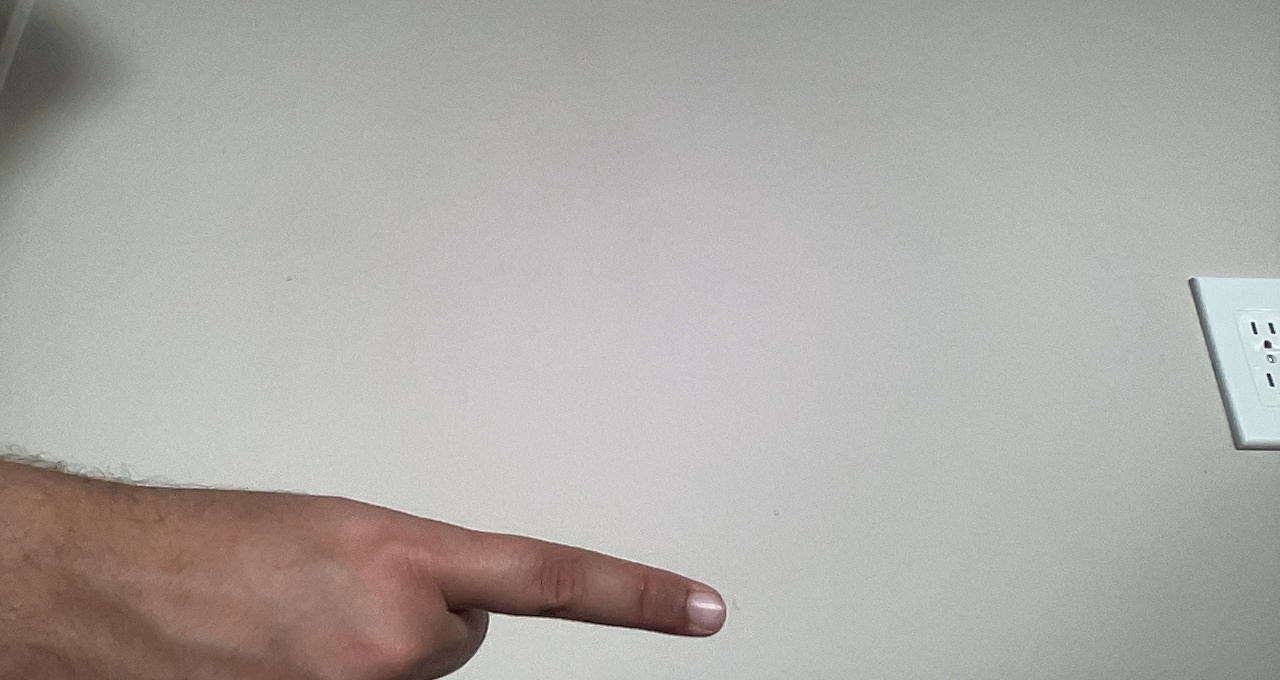fingerleft: (111, 488, 731, 677)
